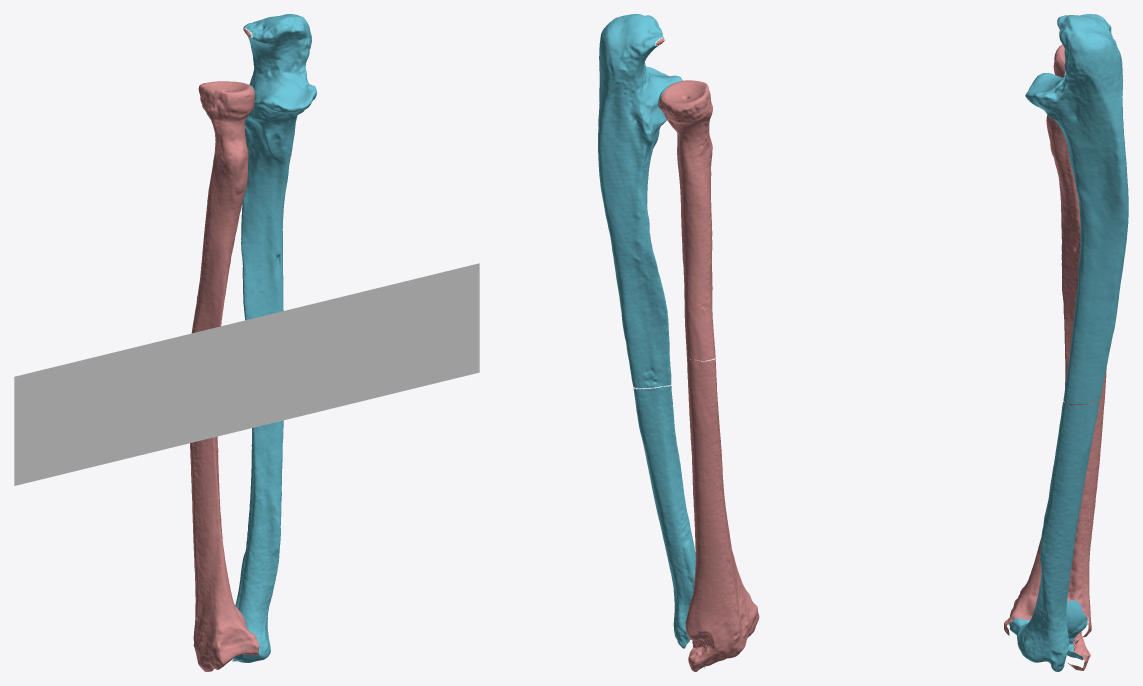
File: fractured_eaeaf0bd-e5d8-437a-9c36-168dd1fd5bf5.glb
The picture shows the model from 3 angles, left to right: view 1: azimuth 30°, elevation 25°; view 2: azimuth 150°, elevation 25°; view 3: azimuth 270°, elevation 25°; orthographic projection. The views are drawn at different scales.
Parts seen in each view (by area): view 1: world; view 2: world; view 3: world.
Part boxes in pixels (box(x1,y1,x2,y2)): world: box(14, 14, 479, 671); world: box(598, 14, 759, 671); world: box(1004, 14, 1128, 671).
Size of the model in its own units: 0.7631 by 0.9988 by 0.1667.
